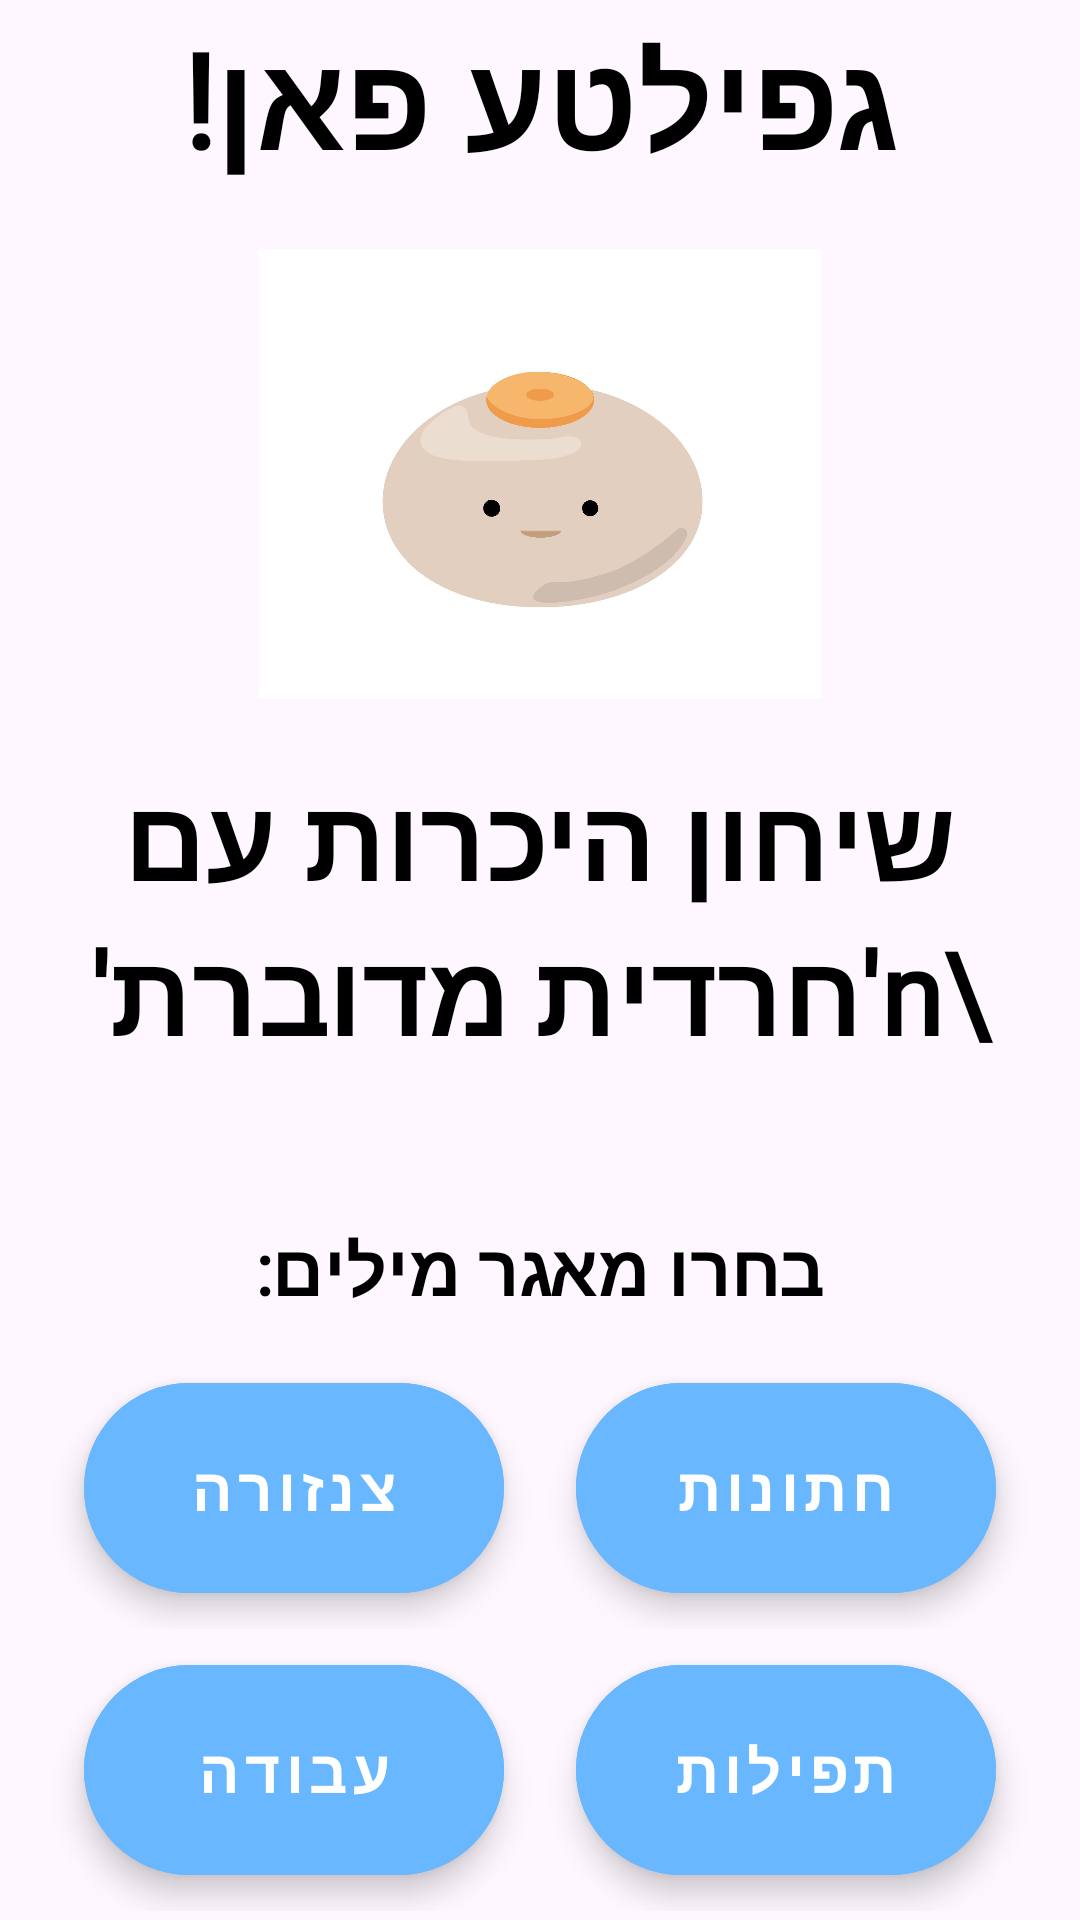

Where to tap for icons on this 1080w x 1920h app screen, as (x,y):
gefilte: (542,489)
